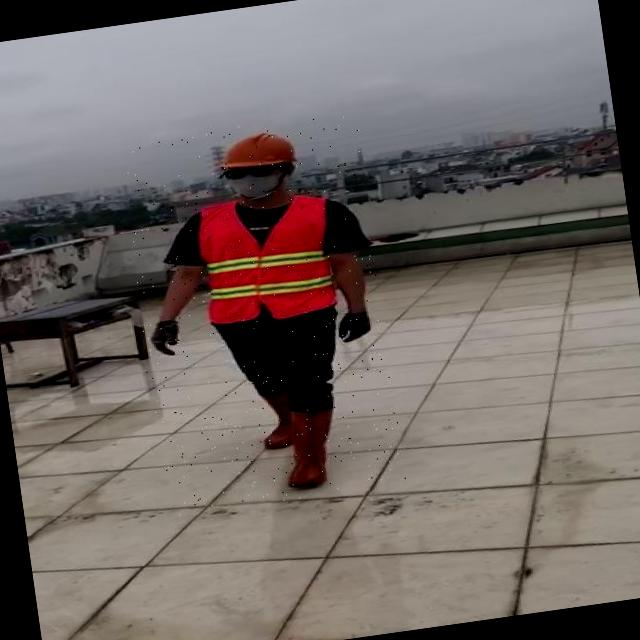boots: (274, 406, 345, 494), (254, 388, 300, 452)
gloves: (149, 316, 193, 358), (332, 311, 374, 341)
helmet: (213, 125, 303, 176)
vest: (192, 191, 342, 329)
